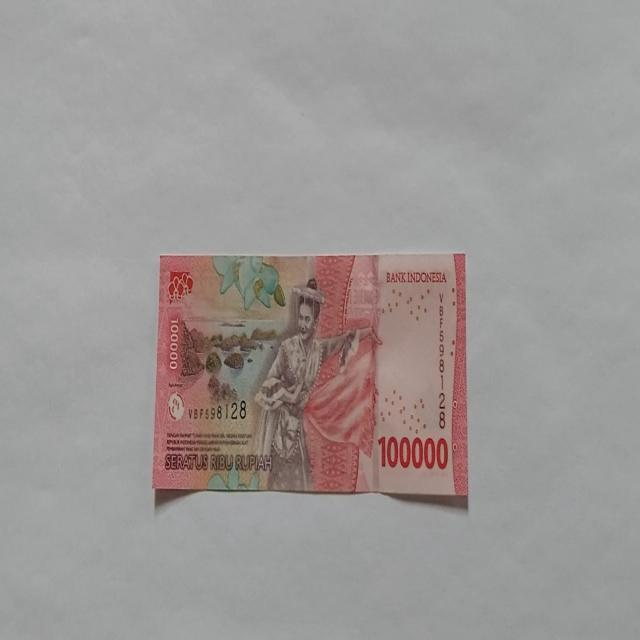seratus ribu rupiah: (152, 252, 468, 500), (250, 276, 374, 490)
